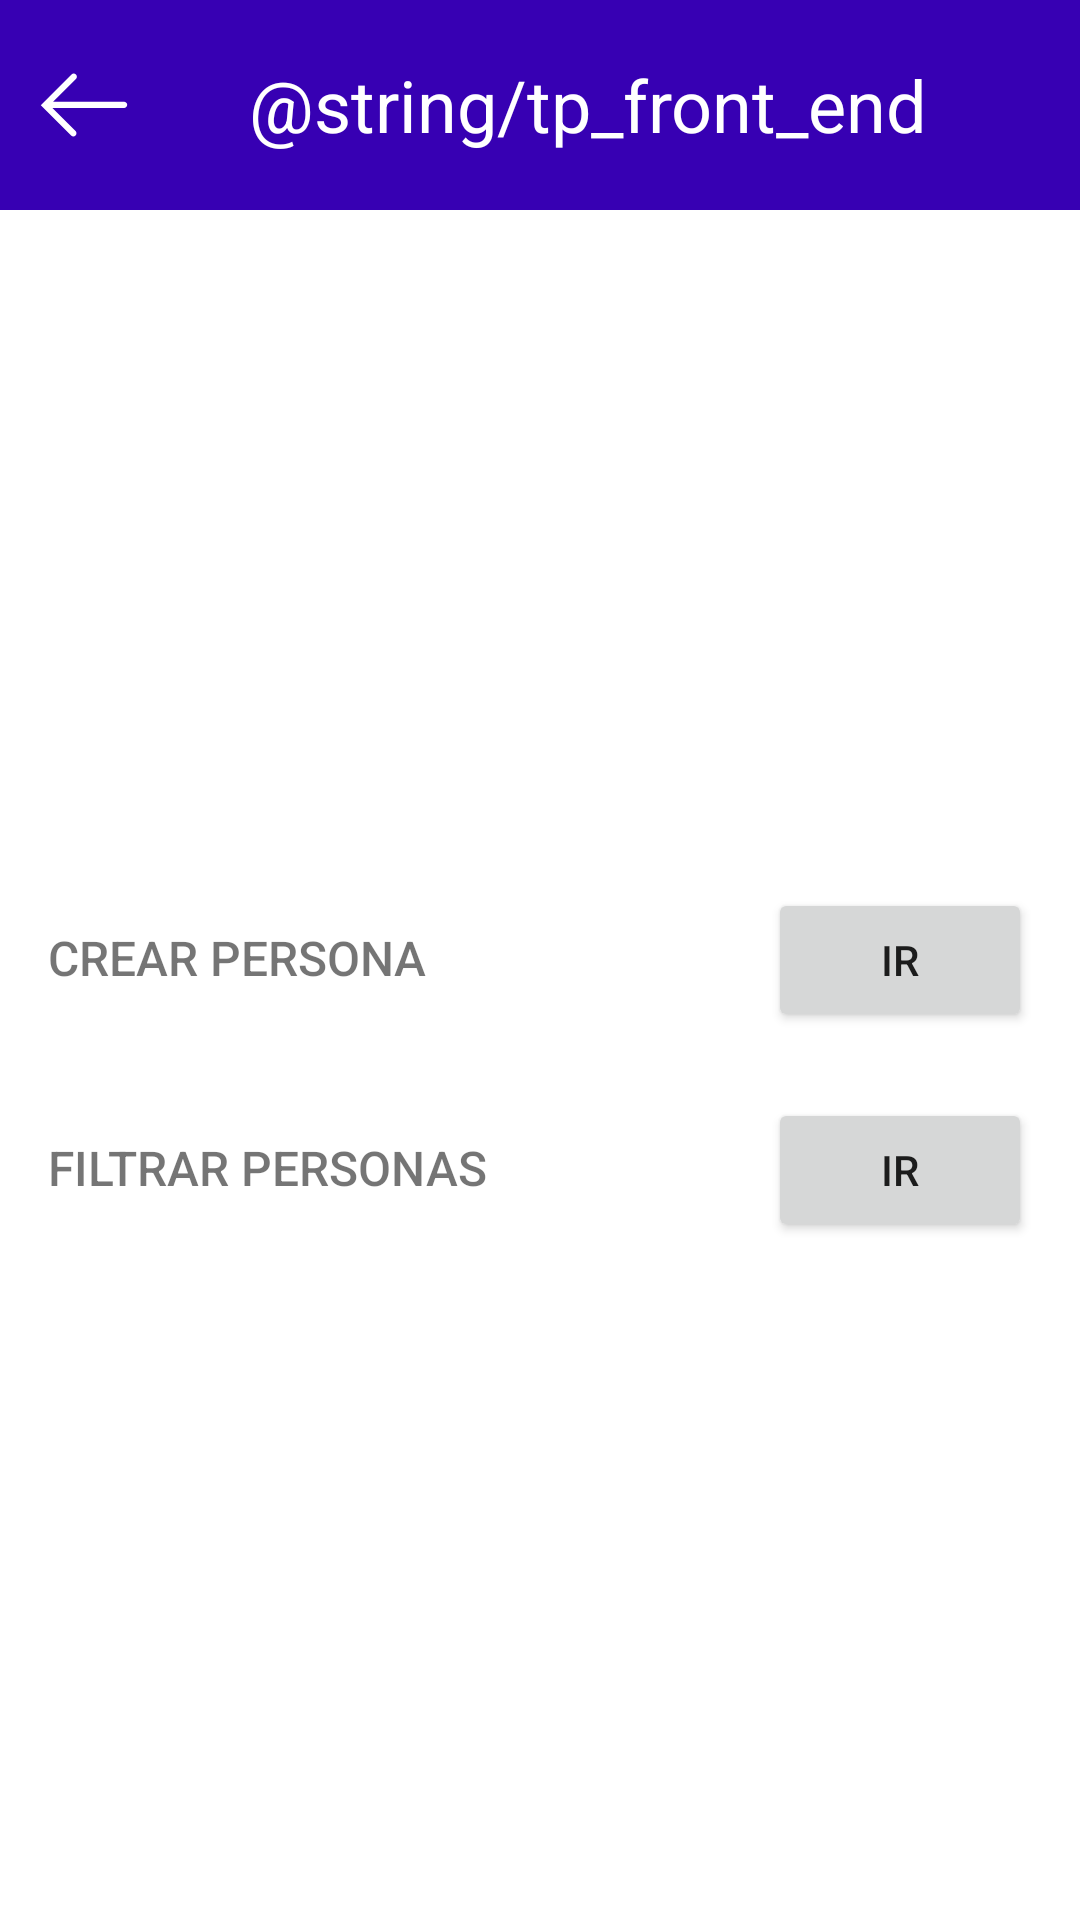

Where icons sit on this 1080 x 1920 app screen, as (x1, y1, x2, y2):
arrow back: (41, 73, 128, 137)
